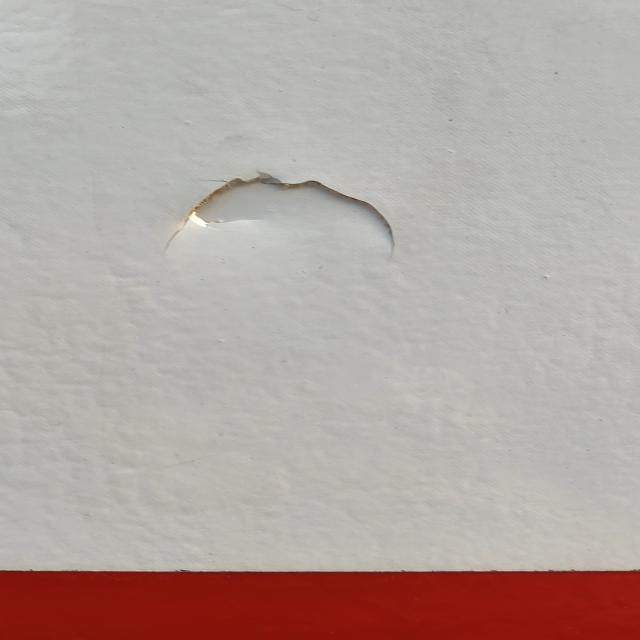Scratches: (151, 165, 443, 267)
